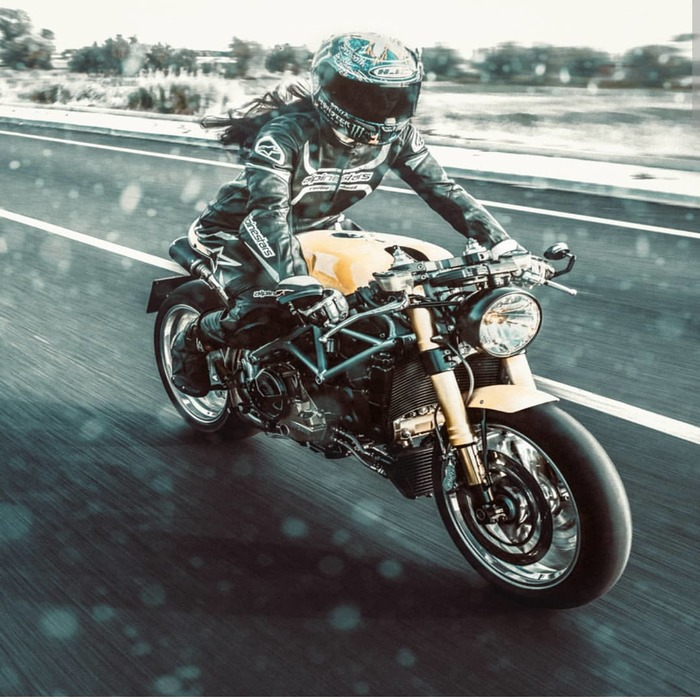h: (309, 29, 428, 155)
